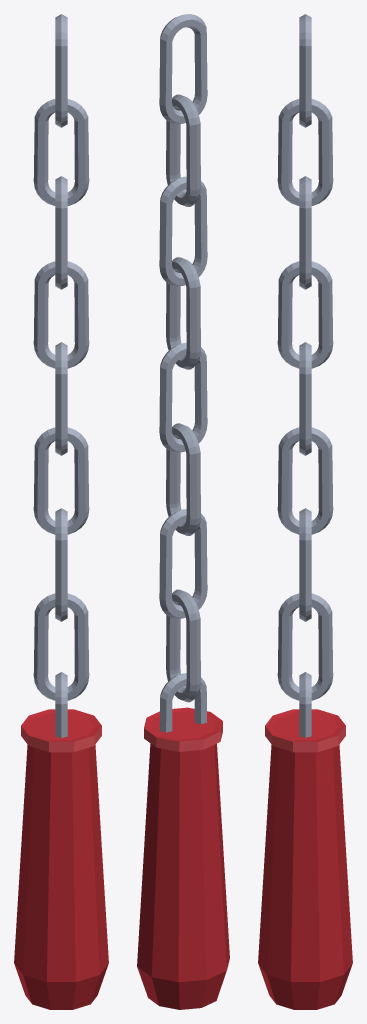
File: f_chain.fbx
3 views of the same model, side by side, from view 1: azimuth 90°, elevation 25°; view 2: azimuth 210°, elevation 25°; view 3: azimuth 270°, elevation 25° (orthographic).
Visible parts, largest first — view 1: Cylinder.002; view 2: Cylinder.002; view 3: Cylinder.002.
Boxes of the visible parts, box(x1,y1,x2,y2) form: Cylinder.002: box(14, 14, 108, 1009); Cylinder.002: box(137, 14, 229, 1009); Cylinder.002: box(258, 14, 352, 1009).
Size of the model in its own units: 7.47 by 7.11 by 85.01.
